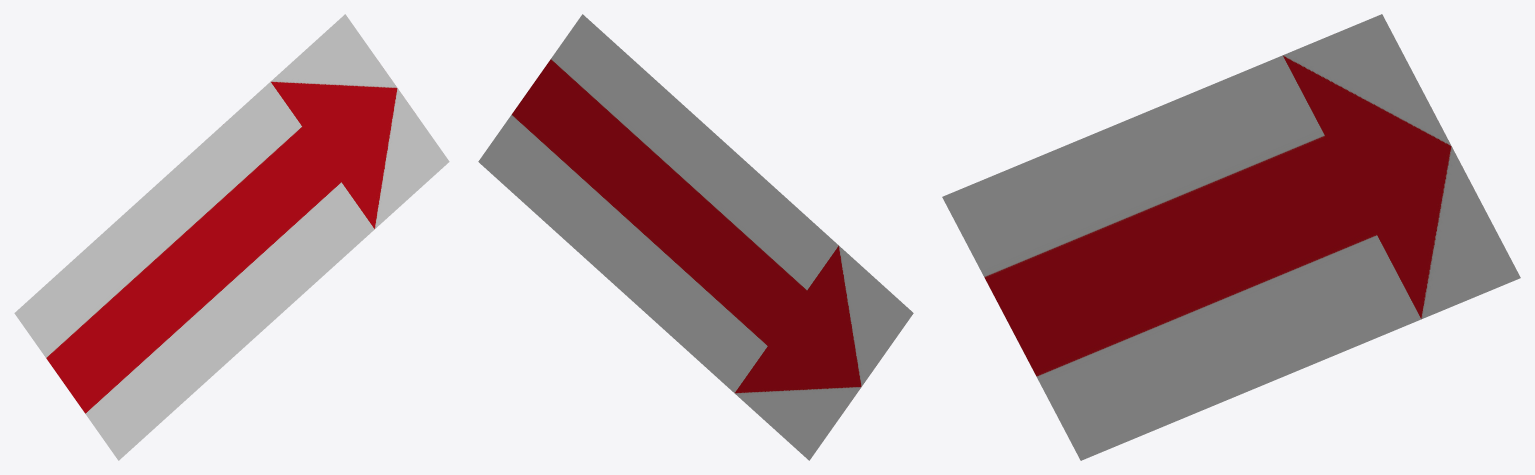
Rendered from stage2_SIGNBOARD.fbx.
3 renders of one model, left to right at view 1: azimuth 30°, elevation 25°; view 2: azimuth 150°, elevation 25°; view 3: azimuth 330°, elevation 25°, orthographic. The views are drawn at different scales.
Parts seen in each view (by area): view 1: Box001; view 2: Box001; view 3: Box001.
Part boxes in pixels (x1,y1,x2,y2): Box001: (14,14,449,460); Box001: (478,14,913,460); Box001: (942,14,1520,460).
Size of the model in its own units: 55.63 by 47.81 by 0.0268.
